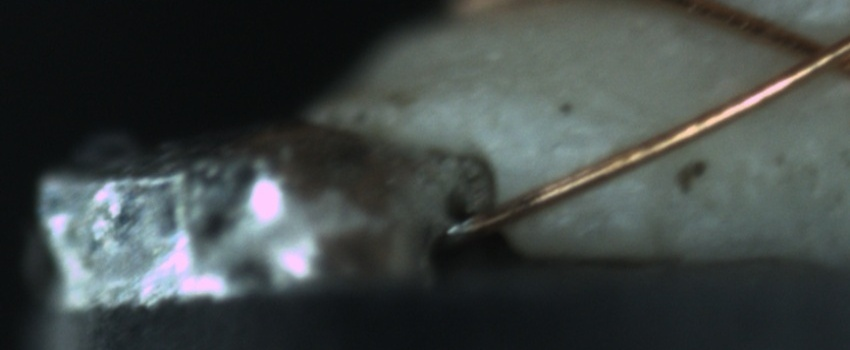CL: (771, 21, 850, 89)
